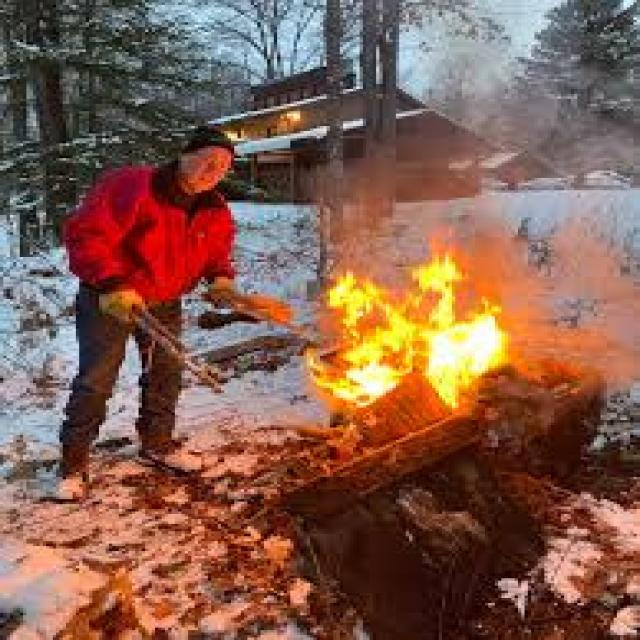fire: (427, 296, 501, 407), (343, 292, 429, 365), (312, 366, 412, 404), (412, 251, 463, 291), (329, 271, 378, 312)
